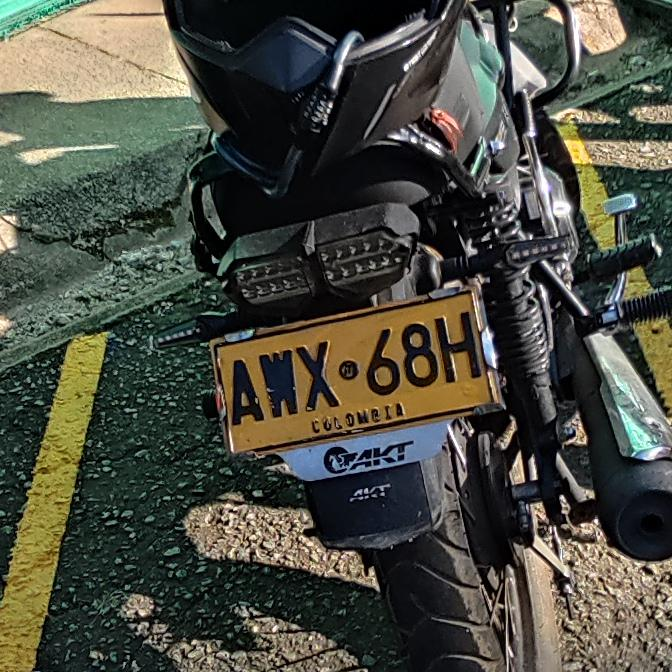plates: (207, 289, 497, 461)
